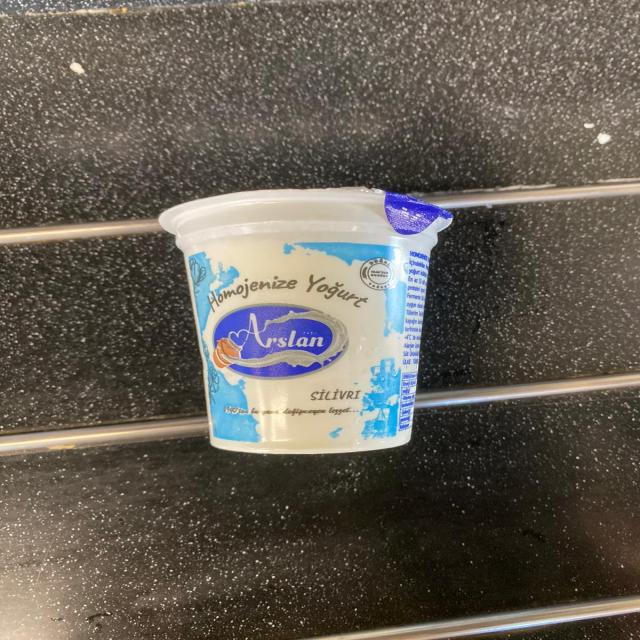yan_yemek: (157, 185, 454, 455)
